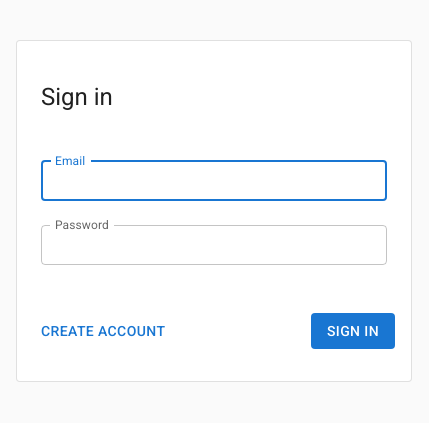
Scenario: Navigation › should display validation errors for empty email and password fields
The image size is (429, 423).
Click the submit button at (353, 332), box [311,313,395,350]
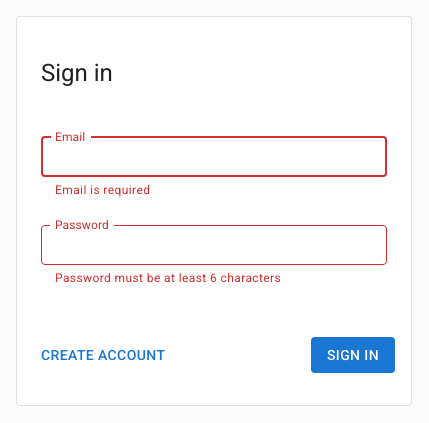
expect the text "Email is required" is shown: met, box [55,183,150,197]
expect the text "Password must be at least 6 characters" is shown: met, box [55,271,281,285]
